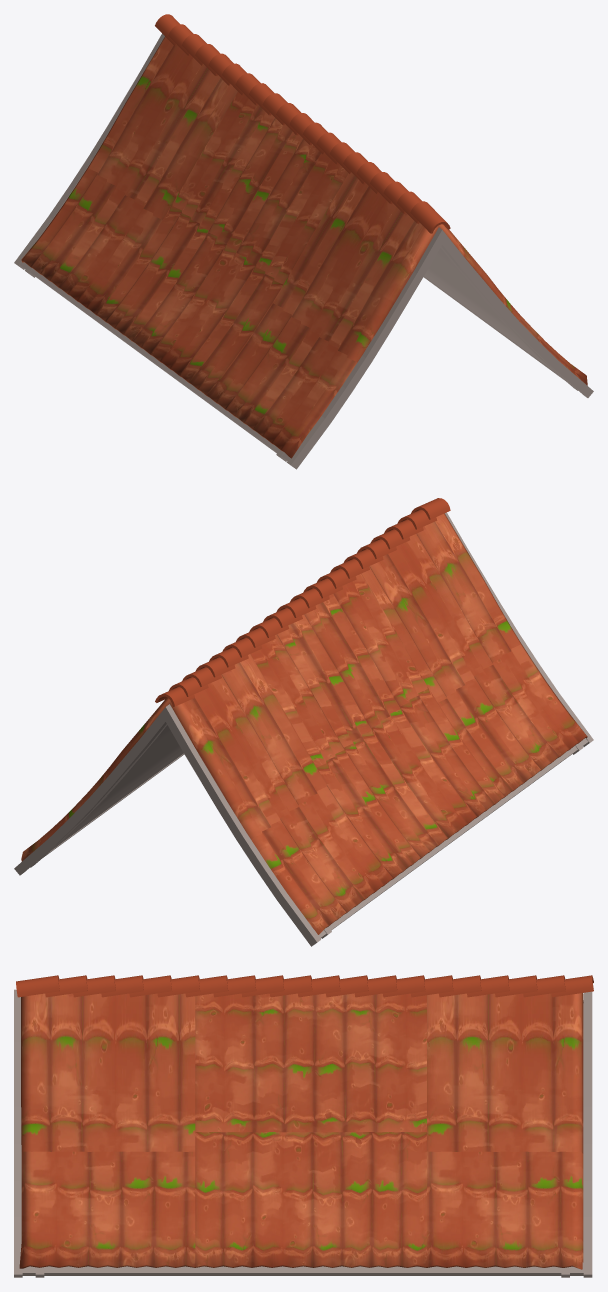
File: Roof_RoundTiles_8x14.glb
3 renders of one model, top to bottom at view 1: azimuth 30°, elevation 25°; view 2: azimuth 150°, elevation 25°; view 3: azimuth 270°, elevation 25°, orthographic. The views are drawn at different scales.
Parts seen in each view (by area): view 1: Roof_RoundTiles_8x14; view 2: Roof_RoundTiles_8x14; view 3: Roof_RoundTiles_8x14.
Part boxes in pixels (x1=…): Roof_RoundTiles_8x14: x1=14, y1=14, x2=593, y2=469; Roof_RoundTiles_8x14: x1=14, y1=498, x2=593, y2=946; Roof_RoundTiles_8x14: x1=14, y1=975, x2=593, y2=1277.
Bounding box in the file's own units: 9.95 × 6.78 × 15.71.
2 materials, 2 textured.
